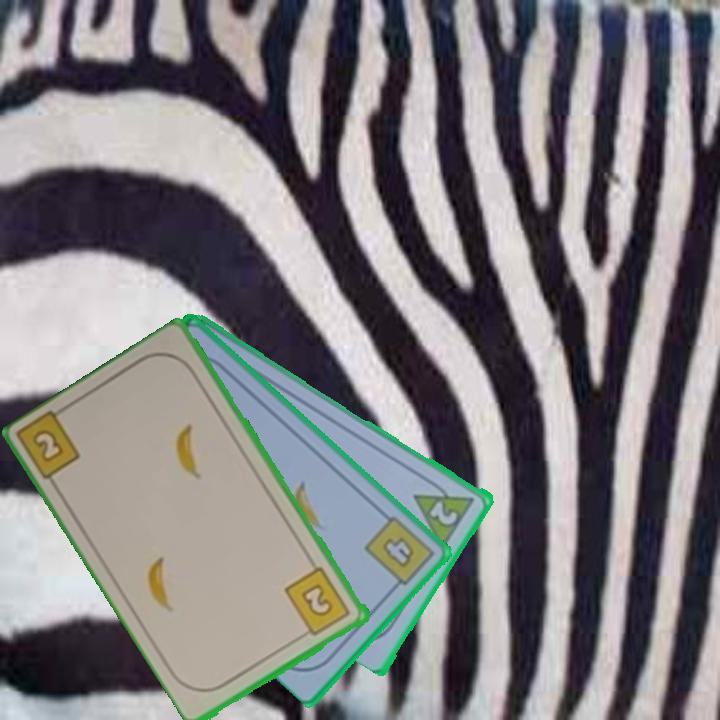2b: (281, 563, 354, 640), (29, 425, 67, 466)
2p: (426, 497, 462, 528)
4b: (361, 512, 438, 594)
